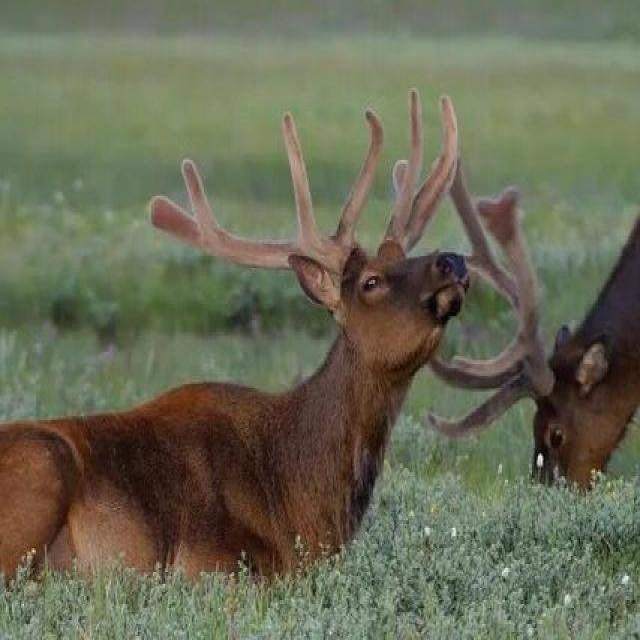deer: (0, 107, 426, 590)
